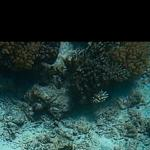dead: (2, 44, 148, 148)
